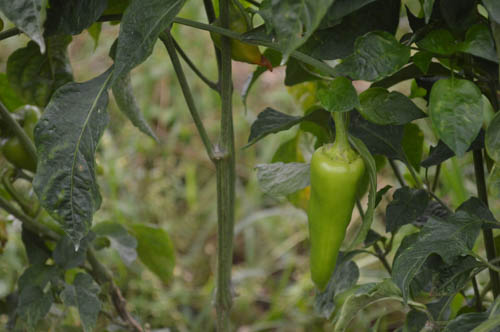ChiliPepper: (305, 153, 362, 291)
